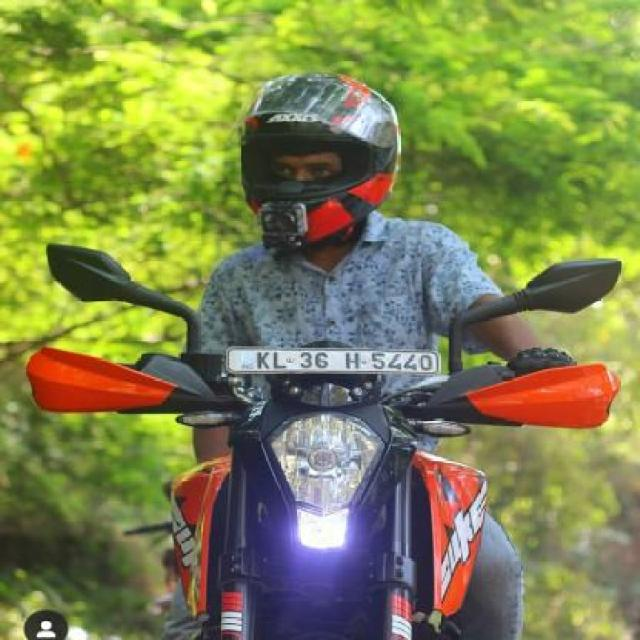helmet: (228, 59, 408, 270)
motorcycle: (80, 60, 571, 640)
